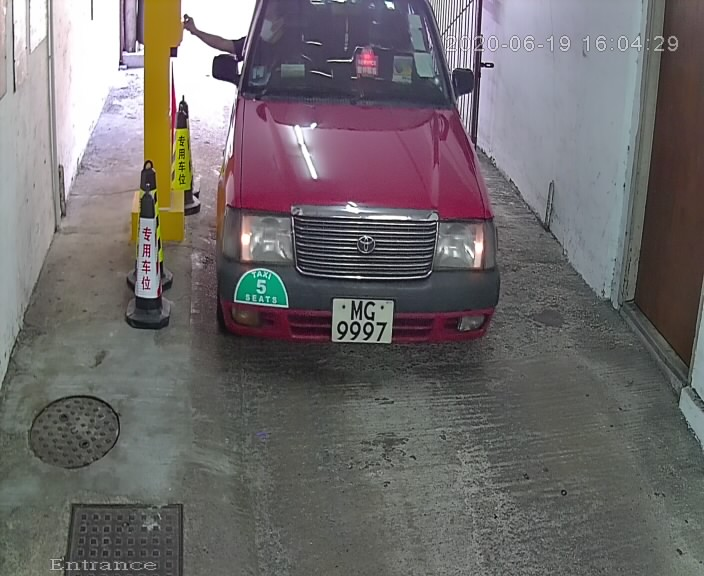taxi: (194, 2, 517, 385)
taxi_mark: (228, 262, 301, 320)
